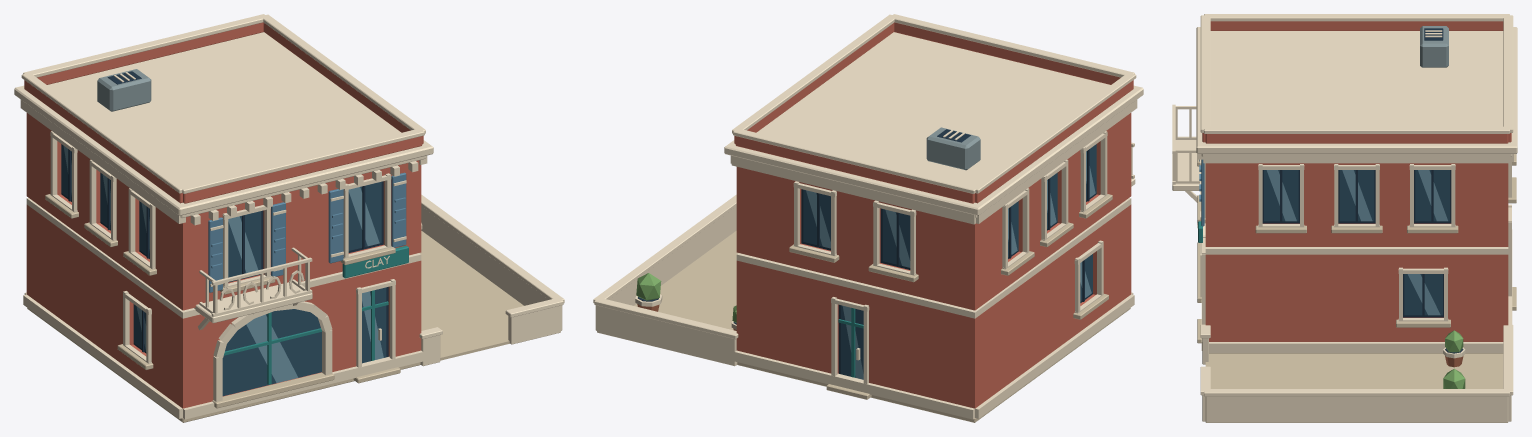
The model's file is ceramic_shop.glb.
3 renders of one model, left to right at view 1: azimuth 30°, elevation 25°; view 2: azimuth 150°, elevation 25°; view 3: azimuth 270°, elevation 25°, orthographic. The views are drawn at different scales.
Visible parts, largest first — view 1: CeramicShop_StaticMesh; view 2: CeramicShop_StaticMesh; view 3: CeramicShop_StaticMesh.
Part boxes in pixels (box(x1,y1,x2,y2)): CeramicShop_StaticMesh: box(14, 14, 564, 422); CeramicShop_StaticMesh: box(593, 14, 1143, 422); CeramicShop_StaticMesh: box(1172, 14, 1517, 422).
Size of the model in its own units: 12.1 by 7.3 by 9.59.
